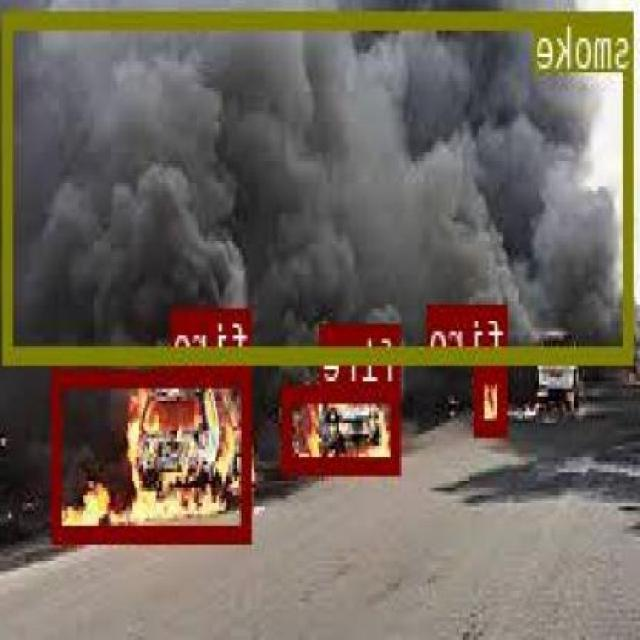Fire: (55, 368, 254, 540), (283, 381, 402, 470), (476, 363, 509, 434)
Smoke: (7, 8, 636, 360)
